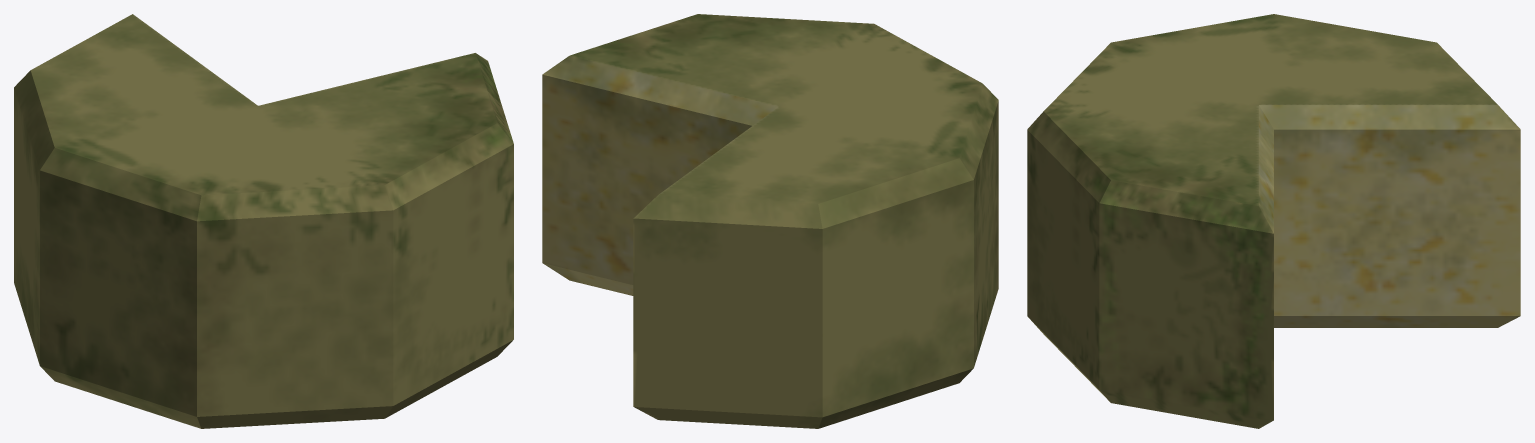
The model's file is CACIOTTA.glb.
3 renders of one model, left to right at view 1: azimuth 30°, elevation 25°; view 2: azimuth 150°, elevation 25°; view 3: azimuth 270°, elevation 25°, orthographic. The views are drawn at different scales.
Parts seen in each view (by area): view 1: CACIOTTA; view 2: CACIOTTA; view 3: CACIOTTA.
Boxes of the visible parts, box(x1,y1,x2,y2) form: CACIOTTA: box(14, 14, 513, 428); CACIOTTA: box(542, 14, 998, 428); CACIOTTA: box(1027, 14, 1520, 428).
Size of the model in its own units: 0.2 by 0.0996 by 0.2.
1 material, 1 textured.
